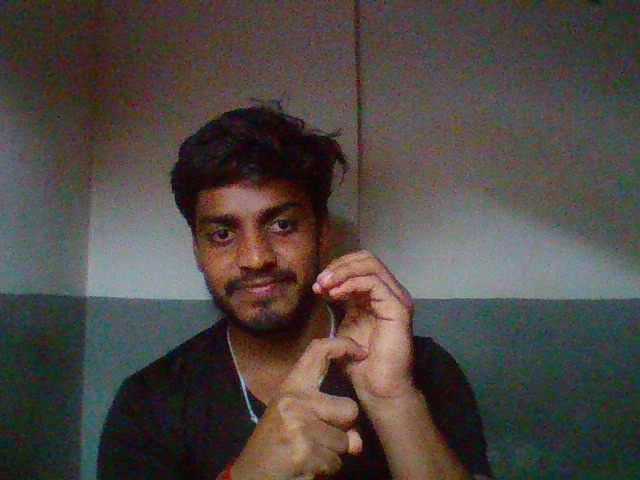G: (210, 240, 451, 476)
